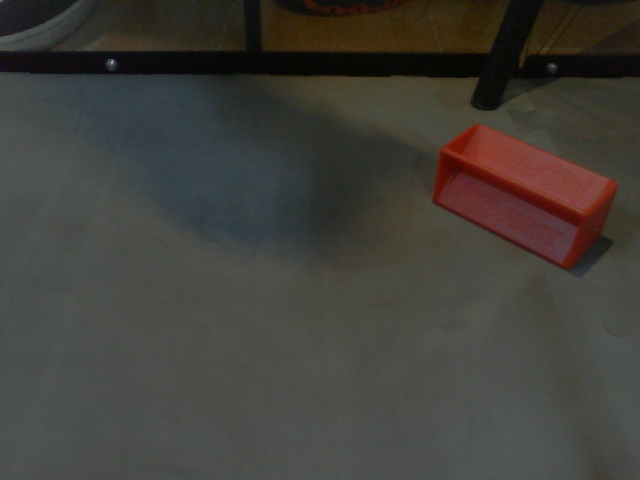RedSample: (430, 123, 622, 274)
